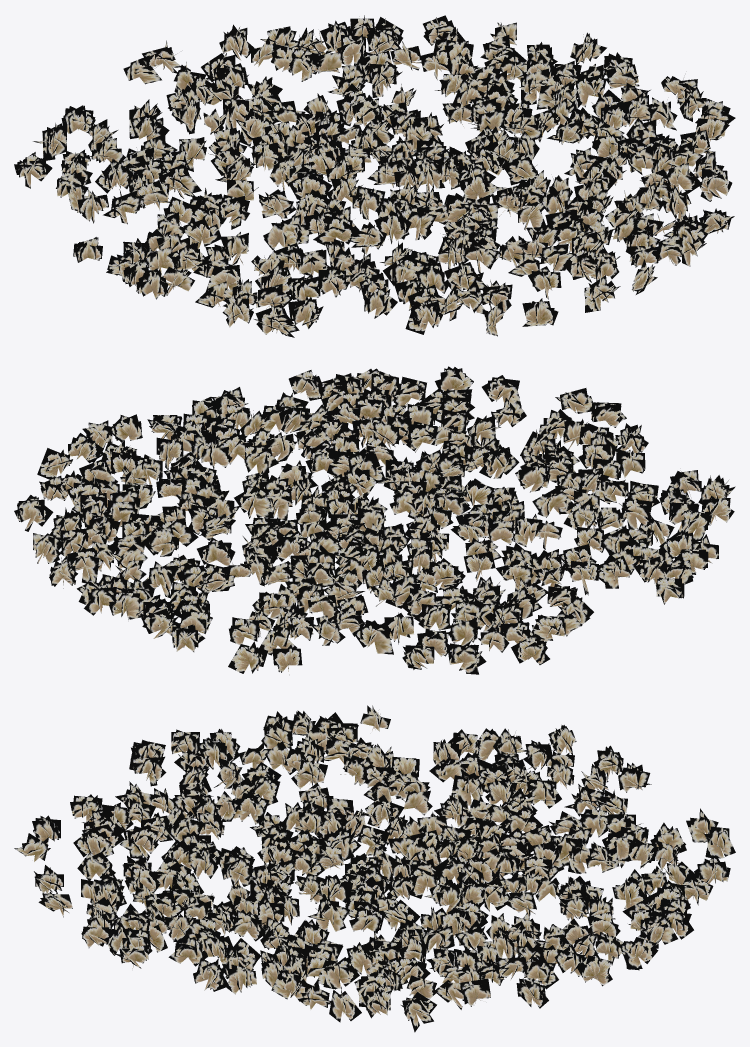
File: sm10_042_laboivy01a.fbx
3 renders of one model, top to bottom at view 1: azimuth 30°, elevation 25°; view 2: azimuth 150°, elevation 25°; view 3: azimuth 270°, elevation 25°, orthographic. The views are drawn at different scales.
Visible parts, largest first — view 1: LOD_1_Group_0_Sub_1__fieldplant00_Mat__Env_AlphaTest; view 2: LOD_1_Group_0_Sub_1__fieldplant00_Mat__Env_AlphaTest; view 3: LOD_1_Group_0_Sub_1__fieldplant00_Mat__Env_AlphaTest.
Boxes of the visible parts, x1=… form: LOD_1_Group_0_Sub_1__fieldplant00_Mat__Env_AlphaTest: x1=14, y1=15, x2=735, y2=337; LOD_1_Group_0_Sub_1__fieldplant00_Mat__Env_AlphaTest: x1=14, y1=366, x2=735, y2=674; LOD_1_Group_0_Sub_1__fieldplant00_Mat__Env_AlphaTest: x1=14, y1=705, x2=735, y2=1032.
Bounding box in the file's own units: 40.84 × 2.14 × 41.44.
